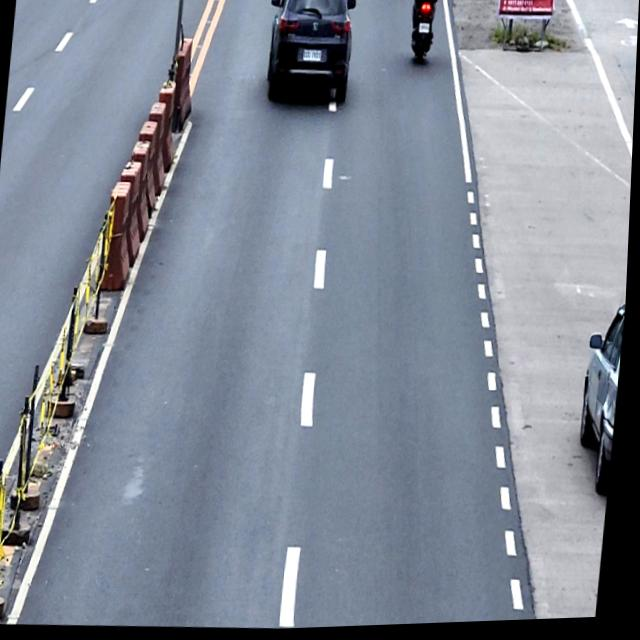Car: (262, 0, 357, 107), (577, 306, 628, 500)
License-Plate: (302, 50, 324, 65), (419, 25, 430, 37)
Motorcycle: (405, 0, 440, 68)
